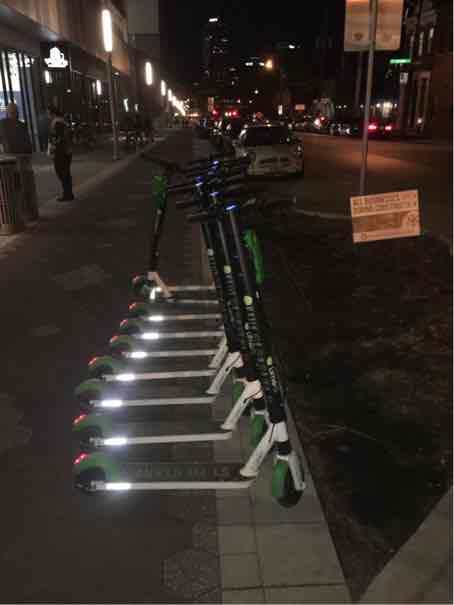too close: (234, 443, 344, 519)
